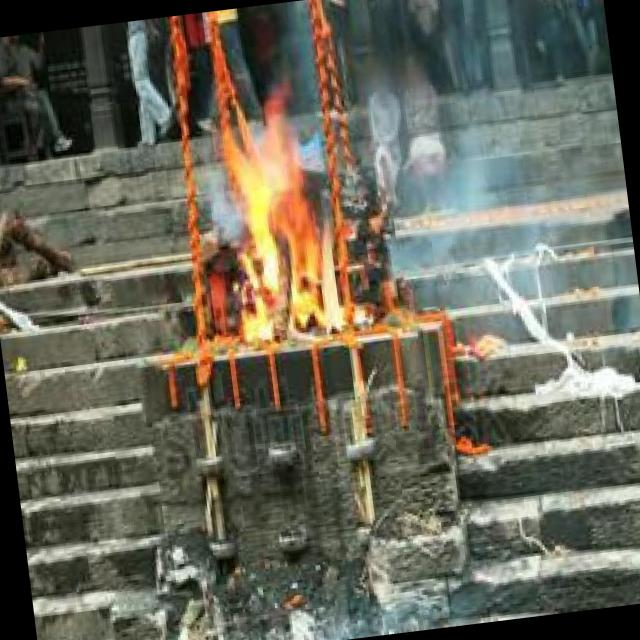Fire: (210, 88, 352, 347)
